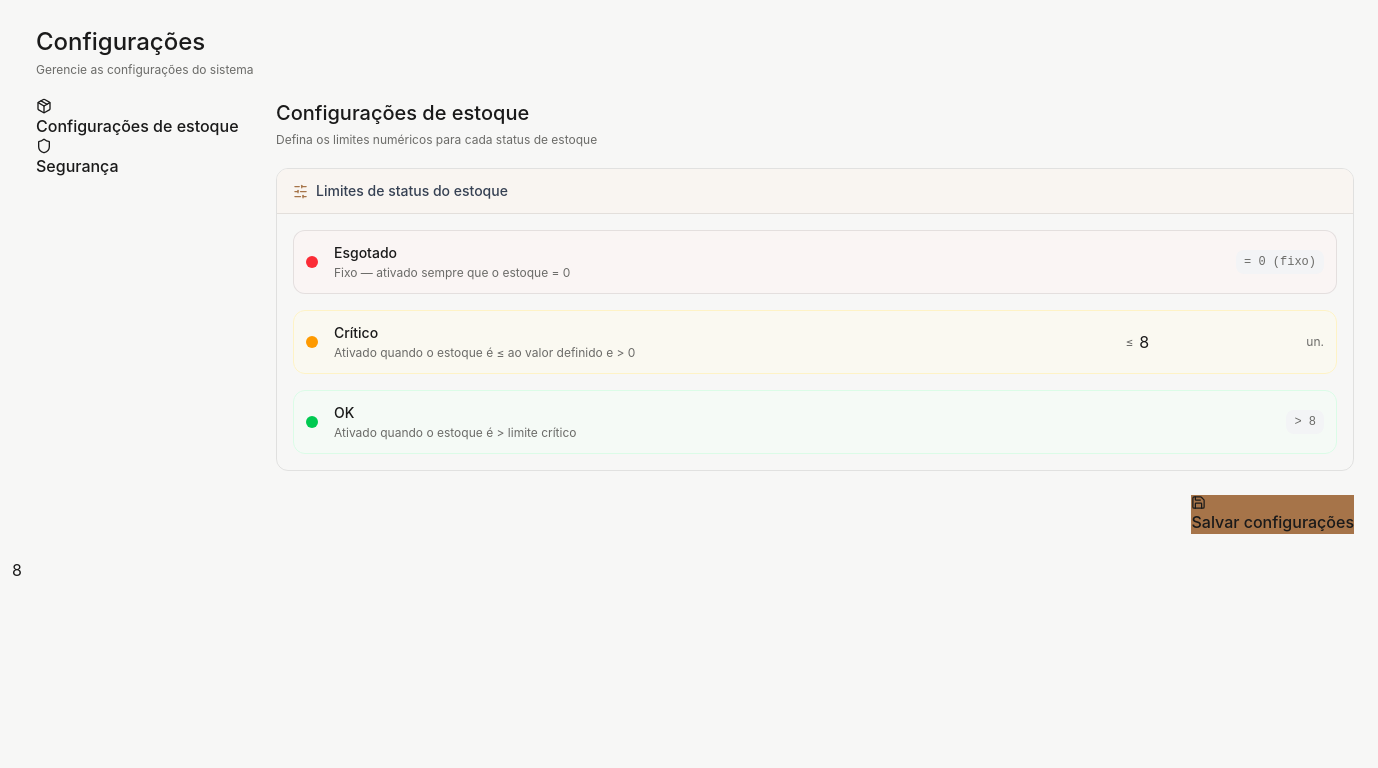
Test case: Settings: caracterizacao das validacoes › limite invalido '' nao envia requisicao nem mostra sucesso
Clear the number field at coordinates (1220, 342), box left=1139, top=330, right=1300, bottom=354
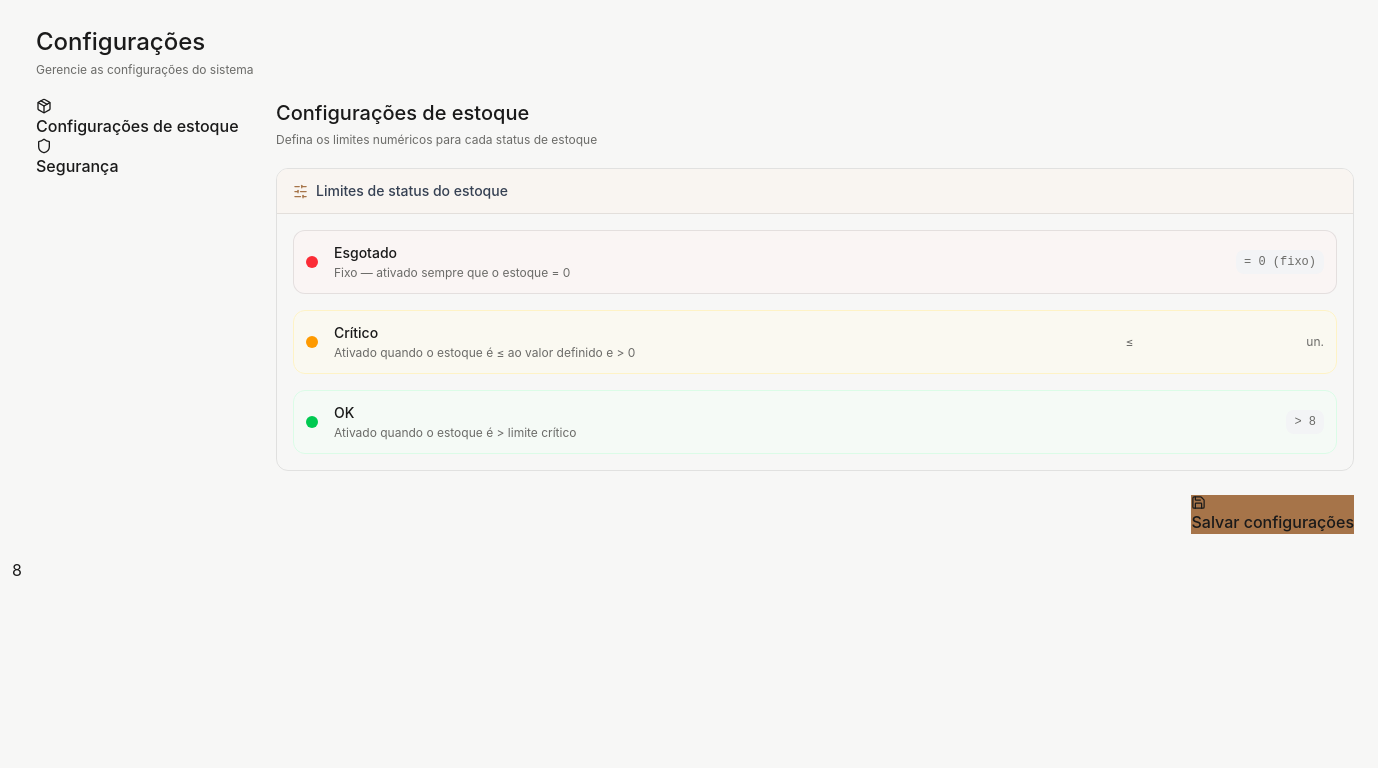
Click the button "Salvar configurações" at coordinates (1273, 514), box left=1192, top=495, right=1354, bottom=534
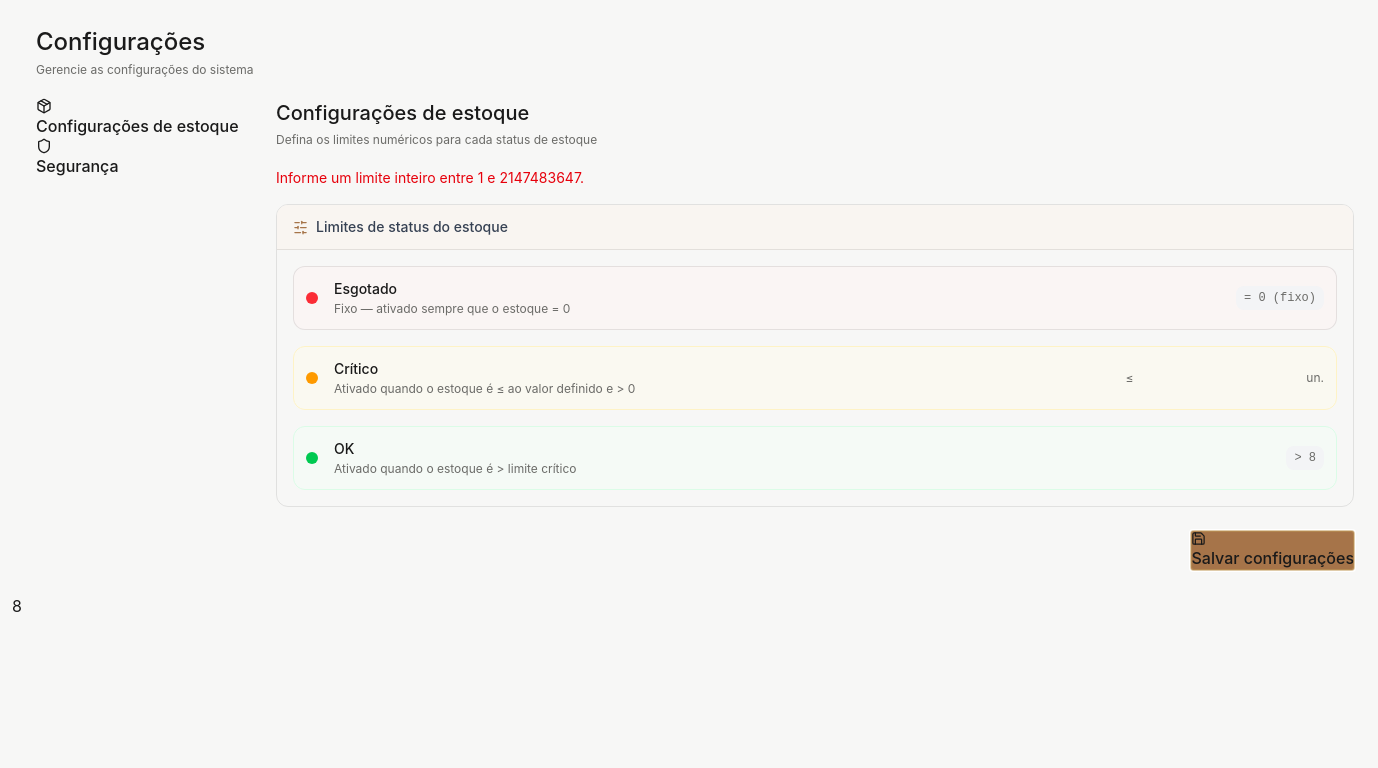
expect the text with test id "stock-limit" reads "8": met, box left=12, top=596, right=22, bottom=616
expect the message reads "Informe um limite inteiro entre 1 e 2147483647.": met, box left=276, top=169, right=584, bottom=186
